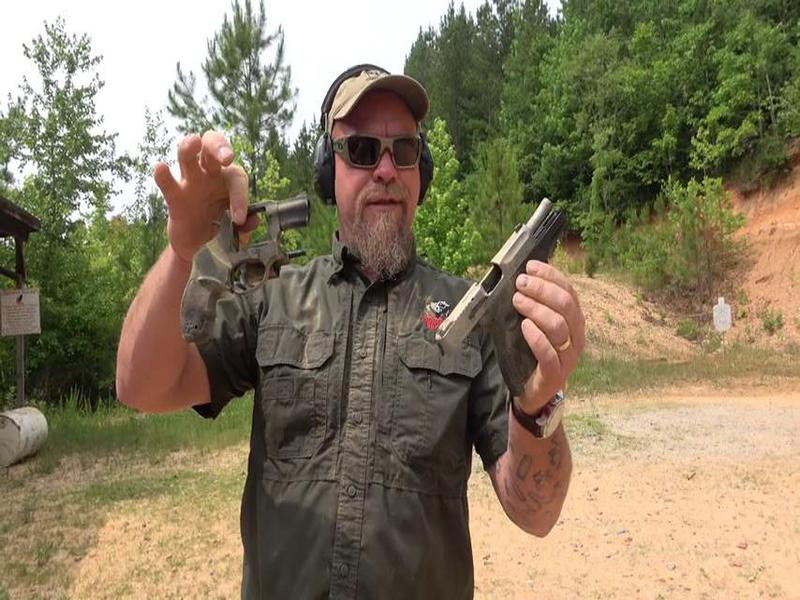Pistola: (440, 189, 588, 414)
Revolver: (164, 174, 346, 342)
